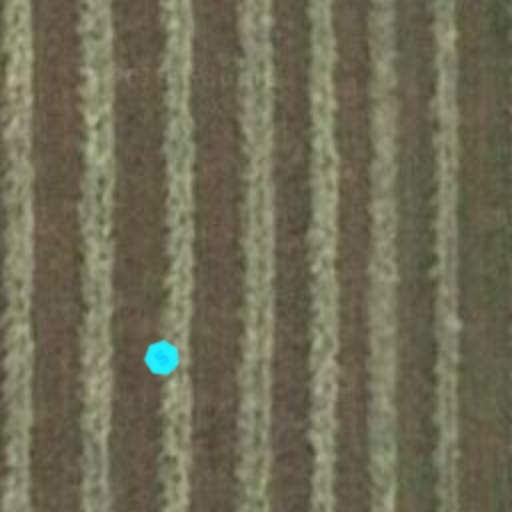heptagon: (136, 332, 188, 384)
